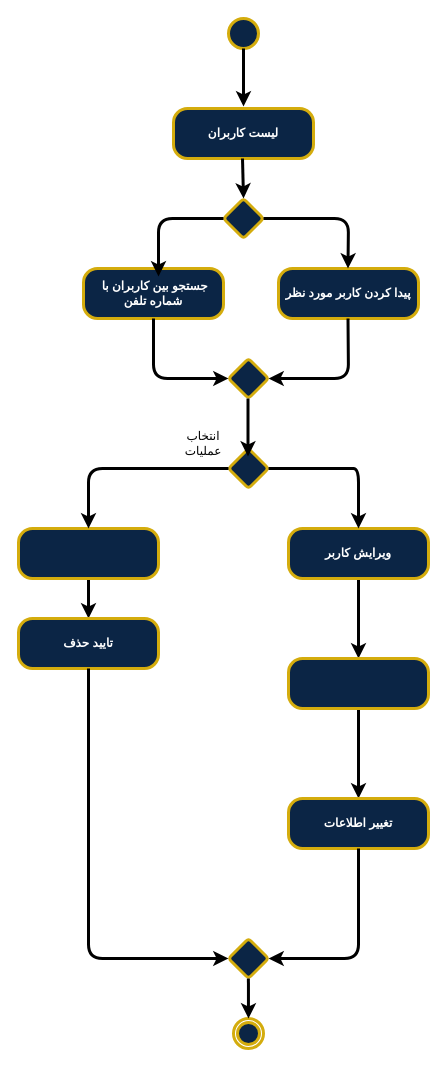
Some shapes in this 447 by 1067 pixel diagram are drawn without their labels. Here are the shapes that lost their labels. From the top down, the box of each, then its label:
(16, 526, 160, 580): حذف کاربر
(286, 656, 430, 710): باز کردن فرم ویرایش
